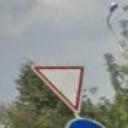preferencia: (29, 62, 89, 116)
